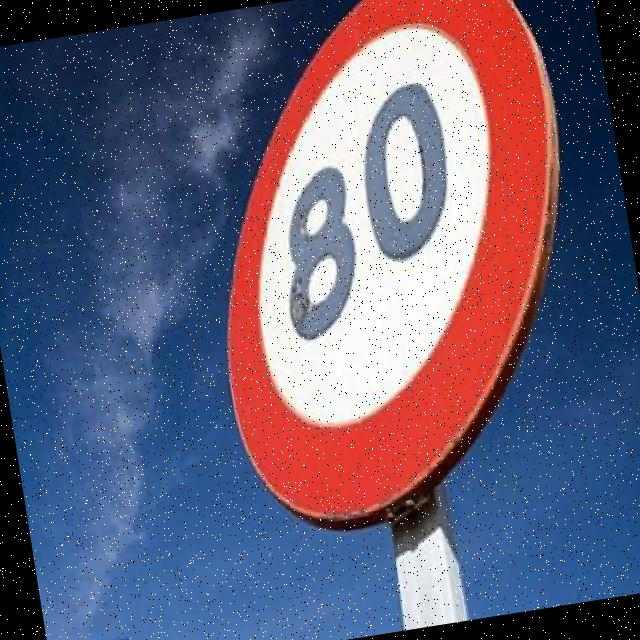Ograniczenie predkosci do 80: (216, 38, 544, 436)
